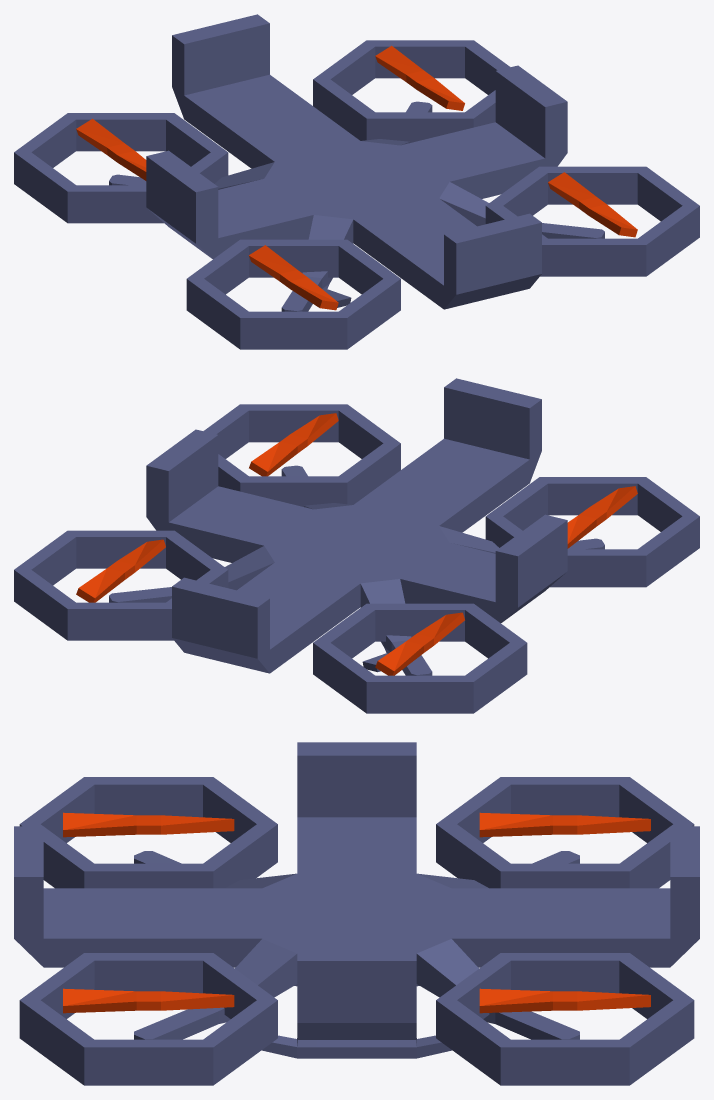
The model's file is drone.glb.
3 views of the same model, one above another, from view 1: azimuth 30°, elevation 25°; view 2: azimuth 150°, elevation 25°; view 3: azimuth 270°, elevation 25° (orthographic). The views are drawn at different scales.
Visible parts, largest first — view 1: Drone, prop.BL, prop.FR, prop.FL, prop.BR; view 2: Drone, prop.BL, prop.FL, prop.BR, prop.FR; view 3: Drone, prop.BL, prop.BR, prop.FR, prop.FL.
Boxes of the visible parts, x1,y1,x2,y2 form: Drone: (14, 14, 699, 349); prop.BL: (375, 45, 464, 110); prop.FR: (249, 245, 338, 310); prop.FL: (548, 172, 637, 237); prop.BR: (76, 118, 146, 180); Drone: (14, 378, 699, 713); prop.BL: (76, 539, 165, 602); prop.FL: (249, 413, 338, 476); prop.BR: (375, 612, 464, 675); prop.FR: (567, 486, 637, 548); Drone: (14, 742, 699, 1085); prop.BL: (479, 988, 650, 1013); prop.BR: (479, 812, 650, 837); prop.FR: (63, 812, 234, 837); prop.FL: (63, 988, 234, 1013).
Size of the model in its own units: 6.76 by 1.94 by 7.25.
